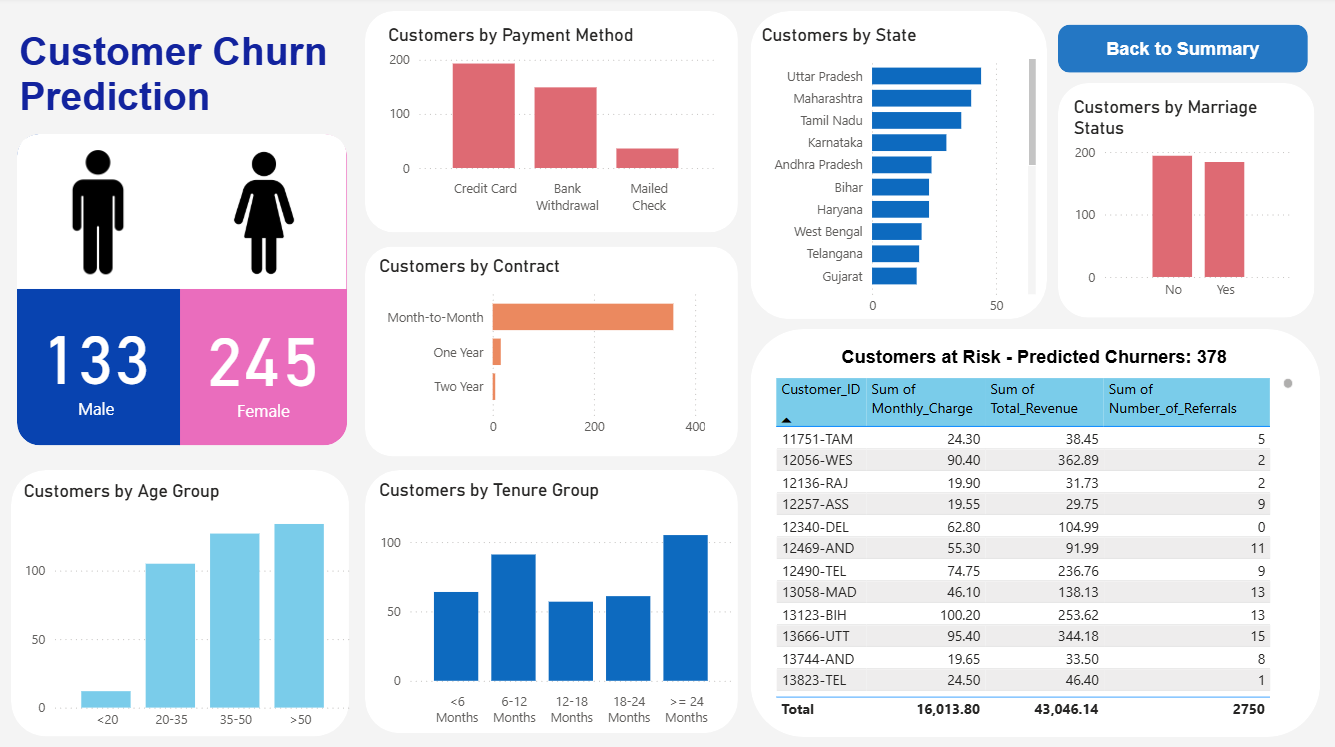

This screenshot's page, from the dashboard's own definition file:
{"tool":"powerbi","page":{"name":"Churn Prediction","canvas":[1280,720],"ordinal":1},"visuals":[{"type":"shape","box":[171.8,132,160.7,297.4],"z":0},{"type":"shape","box":[17.5,132,155.9,297.4],"z":1000},{"type":"shape","box":[1011.6,82.7,245,224.3],"z":2000},{"type":"shape","box":[717.4,318.1,544,389.7],"z":3000},{"type":"shape","box":[717.4,14.3,283.1,294.3],"z":4000},{"type":"shape","box":[349,453.3,356.3,251.3],"z":5000},{"type":"shape","box":[349,238.6,356.3,200.4],"z":6000},{"type":"shape","box":[349,14.3,356.3,211.6],"z":7000},{"type":"shape","box":[11.1,453.3,322.9,254.5],"z":8000},{"type":"tableEx","title":"Sample Title","fields":{"Values":["Predictions.Customer_ID","Sum(Predictions.Monthly_Charge)","Sum(Predictions.Total_Revenue)","Sum(Predictions.Number_of_Referrals)"]},"box":[736.5,359.5,504.2,335.6],"z":9000},{"type":"card","fields":{"Values":["All Measures.Count Predicted Churner"]},"box":[12.7,259.3,159.1,179.7],"z":10000},{"type":"card","fields":{"Values":["All Measures.Count Predicted Churner"]},"box":[151.1,260.9,203.6,179.7],"z":11000},{"type":"clusteredColumnChart","title":"Customers by Age Group","fields":{"Category":["mapping_AgeGroup.Age Group"],"Y":["CountNonNull(Predictions.Customer_ID)"]},"box":[19.1,462.9,322.9,246.5],"z":12000},{"type":"clusteredColumnChart","title":"Customers by Marriage Status","fields":{"Y":["CountNonNull(Predictions.Customer_ID)"],"Category":["Predictions.Married"]},"box":[1021.2,95.4,219.5,202],"z":13000},{"type":"clusteredColumnChart","title":"Customers by Tenure Group","fields":{"Y":["CountNonNull(Predictions.Customer_ID)"],"Category":["mapping_TenureGrp.Tenure Group"]},"box":[357.9,461.3,346.8,243.4],"z":14000},{"type":"clusteredColumnChart","title":"Customers by Payment Method","fields":{"Y":["CountNonNull(Predictions.Customer_ID)"],"Category":["Predictions.Payment_Method"]},"box":[366.5,27,321.3,187.7],"z":15000},{"type":"clusteredBarChart","title":"Customers by Contract","fields":{"Category":["Predictions.Contract"],"Y":["CountNonNull(Predictions.Customer_ID)"]},"box":[358.5,248.1,321.3,181.3],"z":16000},{"type":"clusteredBarChart","title":"Customers by State","fields":{"Y":["CountNonNull(Predictions.Customer_ID)"],"Category":["Predictions.State"]},"box":[723.7,27,272,286.3],"z":17000},{"type":"textbox","box":[14.3,25.4,313.4,112.9],"z":18000},{"type":"cardVisual","fields":{"Data":["All Measures.Title Predicted Churner"]},"box":[782.6,318.1,413.6,49.3],"z":19000},{"type":"actionButton","box":[1011.6,27,238.6,46.1],"z":20000},{"type":"shape","box":[15.8,131.8,316.6,147.5],"z":21000},{"type":"image","box":[27,141.6,135.2,128.8],"z":22000},{"type":"image","box":[168.6,132,159.1,159.1],"z":23000}]}

Visuals, with their boxes in screenshot pixels (x1, y1, x2, y2), scaled from the page's 1280x720 canvas onto the 1335x747 screenshot:
shape: <box>179,137,347,446</box>
shape: <box>18,137,181,446</box>
shape: <box>1055,86,1311,319</box>
shape: <box>748,330,1316,734</box>
shape: <box>748,15,1043,320</box>
shape: <box>364,470,736,731</box>
shape: <box>364,248,736,455</box>
shape: <box>364,15,736,234</box>
shape: <box>12,470,348,734</box>
"Sample Title" tableEx: <box>768,373,1294,721</box>
card - All Measures.Count Predicted Churner: <box>13,269,179,455</box>
card - All Measures.Count Predicted Churner: <box>158,271,370,457</box>
"Customers by Age Group" clusteredColumnChart: <box>20,480,357,736</box>
"Customers by Marriage Status" clusteredColumnChart: <box>1065,99,1294,309</box>
"Customers by Tenure Group" clusteredColumnChart: <box>373,479,735,731</box>
"Customers by Payment Method" clusteredColumnChart: <box>382,28,717,223</box>
"Customers by Contract" clusteredBarChart: <box>374,257,709,446</box>
"Customers by State" clusteredBarChart: <box>755,28,1038,325</box>
textbox: <box>15,26,342,143</box>
cardVisual - All Measures.Title Predicted Churner: <box>816,330,1248,381</box>
actionButton: <box>1055,28,1304,76</box>
shape: <box>16,137,347,290</box>
image: <box>28,147,169,281</box>
image: <box>176,137,342,302</box>
